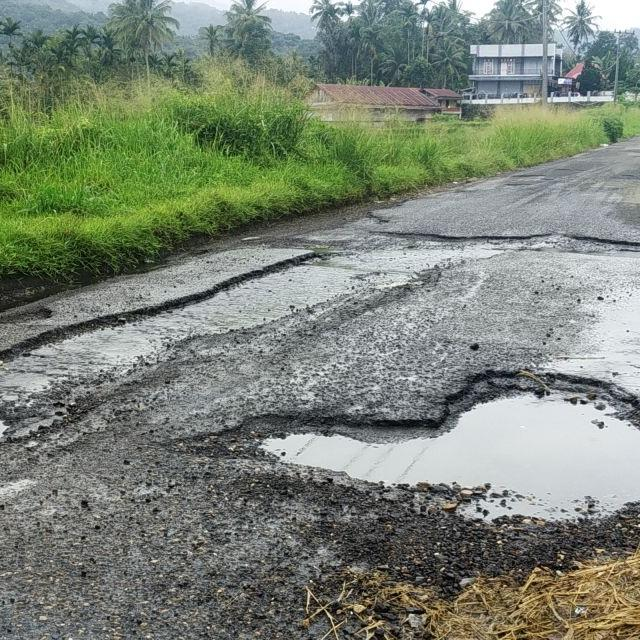lubang_kecil: (250, 348, 640, 558), (2, 230, 372, 366), (368, 198, 640, 288), (0, 332, 142, 476)
